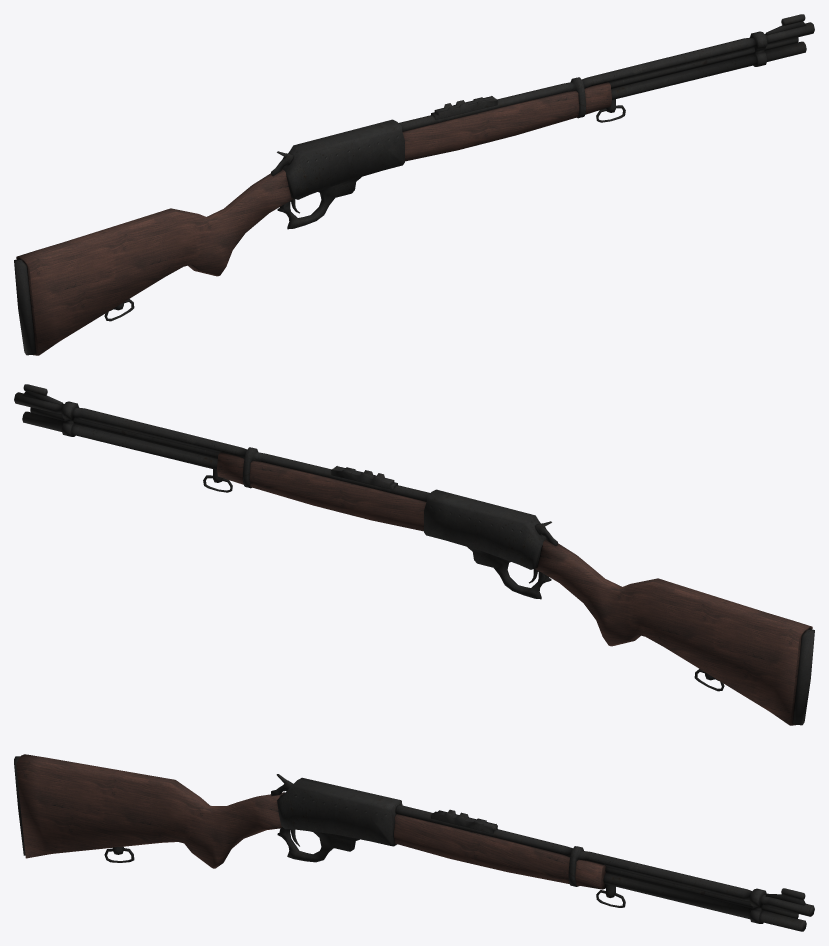
Rendered from hunting.glb.
3 renders of one model, top to bottom at view 1: azimuth 30°, elevation 25°; view 2: azimuth 150°, elevation 25°; view 3: azimuth 330°, elevation 25°, orthographic.
Visible parts, largest first — view 1: Body; view 2: Body; view 3: Body.
Part boxes in pixels (<box>): Body: <box>14,14,814,355</box>; Body: <box>14,384,814,725</box>; Body: <box>14,754,814,931</box>.
Size of the model in its own units: 0.9 by 0.1644 by 0.0269.
1 material, 1 textured.
